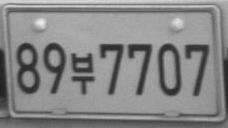0: (156, 41, 182, 96)
7: (126, 42, 153, 95), (98, 42, 124, 95), (184, 43, 210, 96)
8: (15, 41, 40, 94)
9: (42, 41, 66, 94)
부: (70, 51, 96, 95)
